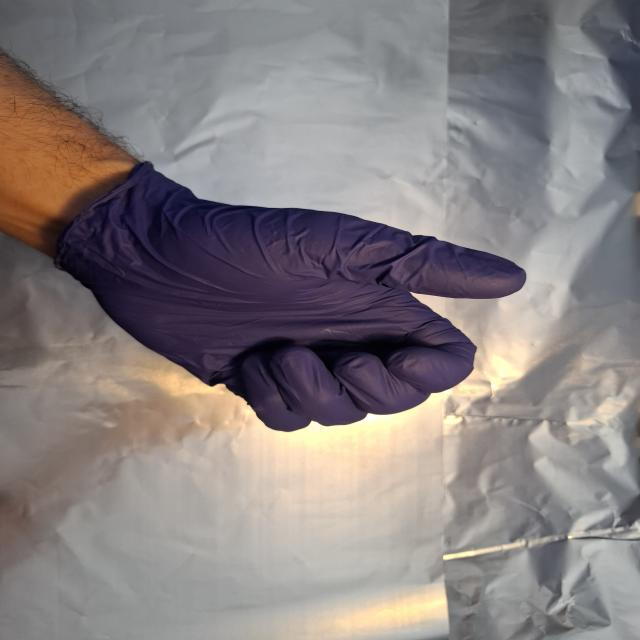glove_on: (55, 165, 536, 436)
